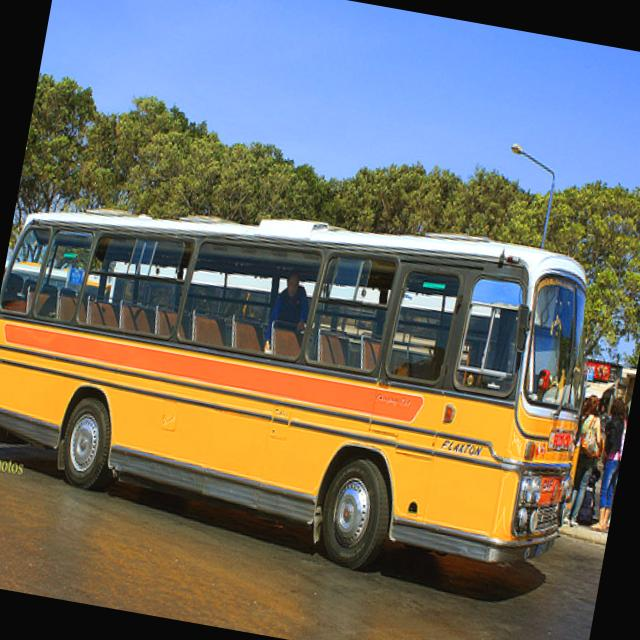Vehicle: (0, 153, 617, 602), (342, 209, 556, 269)
